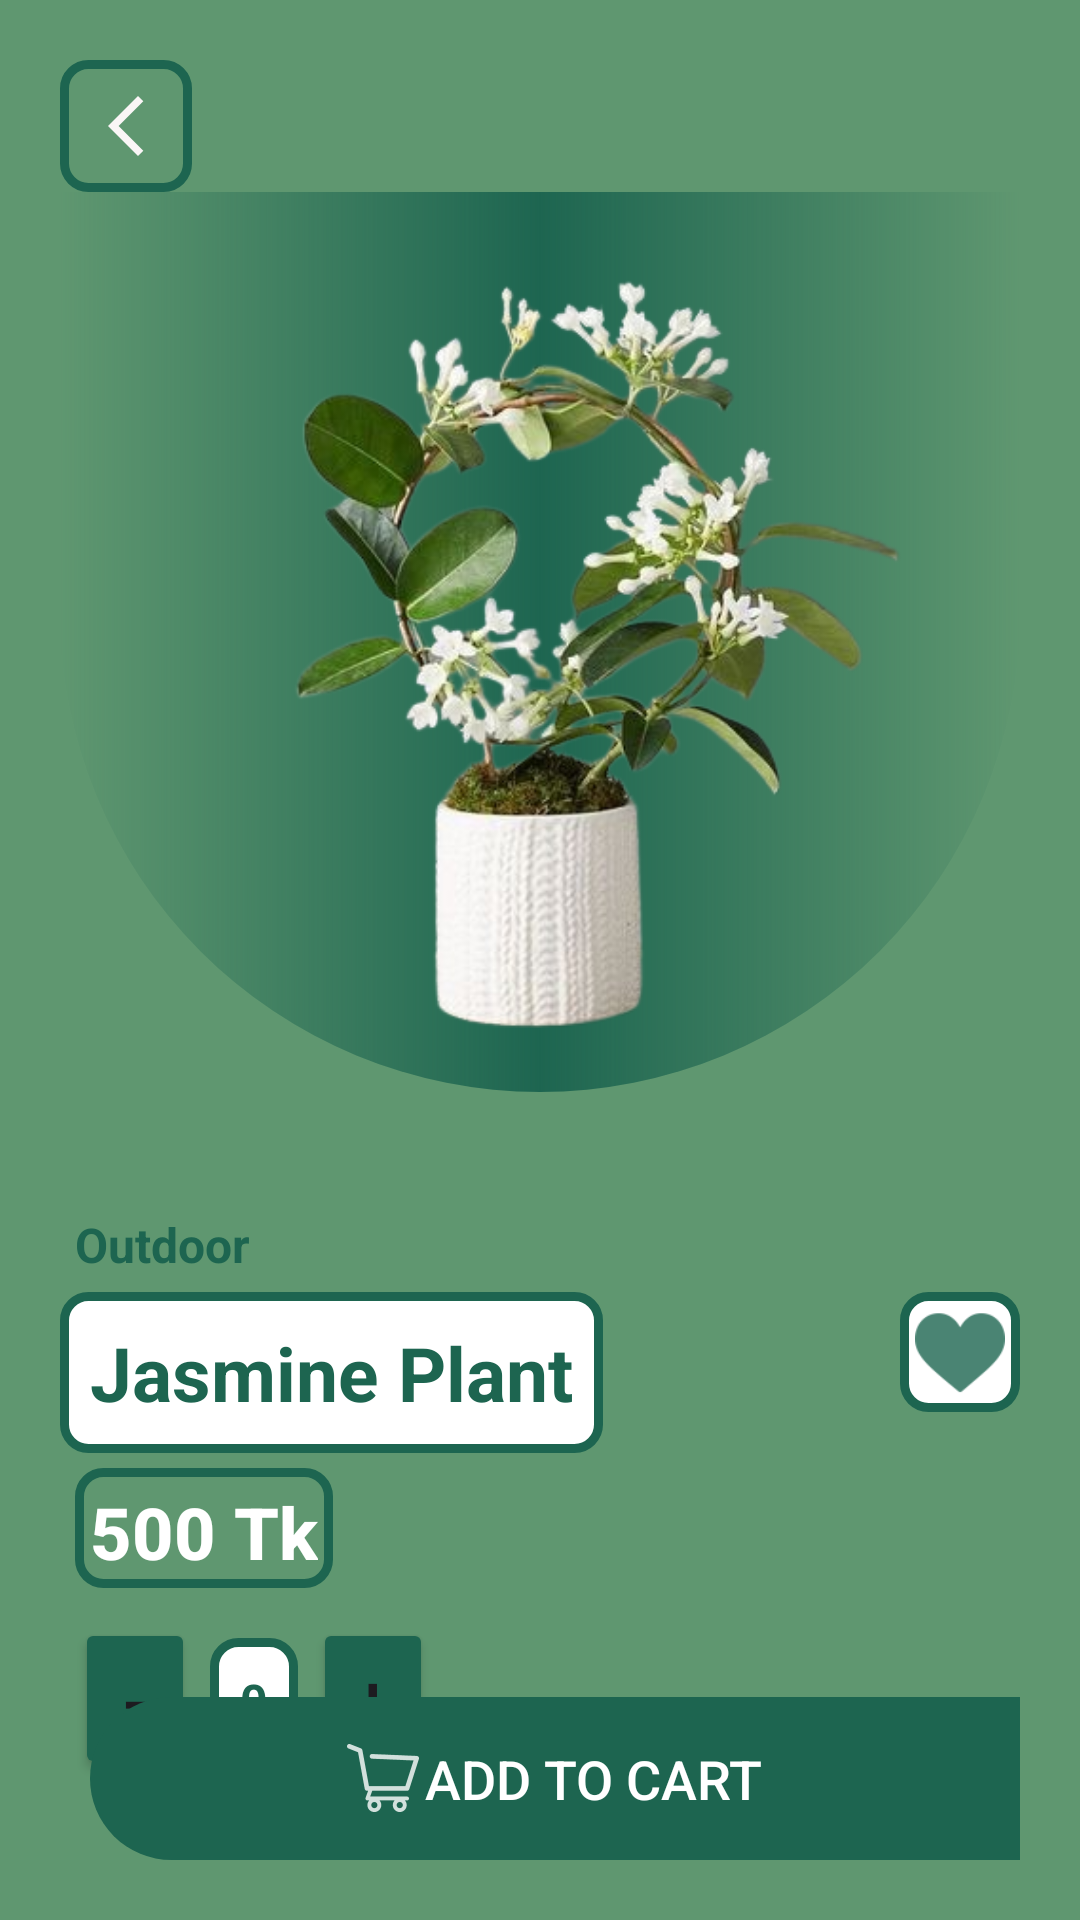

Locate icon controls on the screen. Image size 1080x1920, boxes as bbox=[x1, y1, x2, y2].
back: bbox=[60, 60, 192, 192]
heart: bbox=[900, 1292, 1020, 1412]
